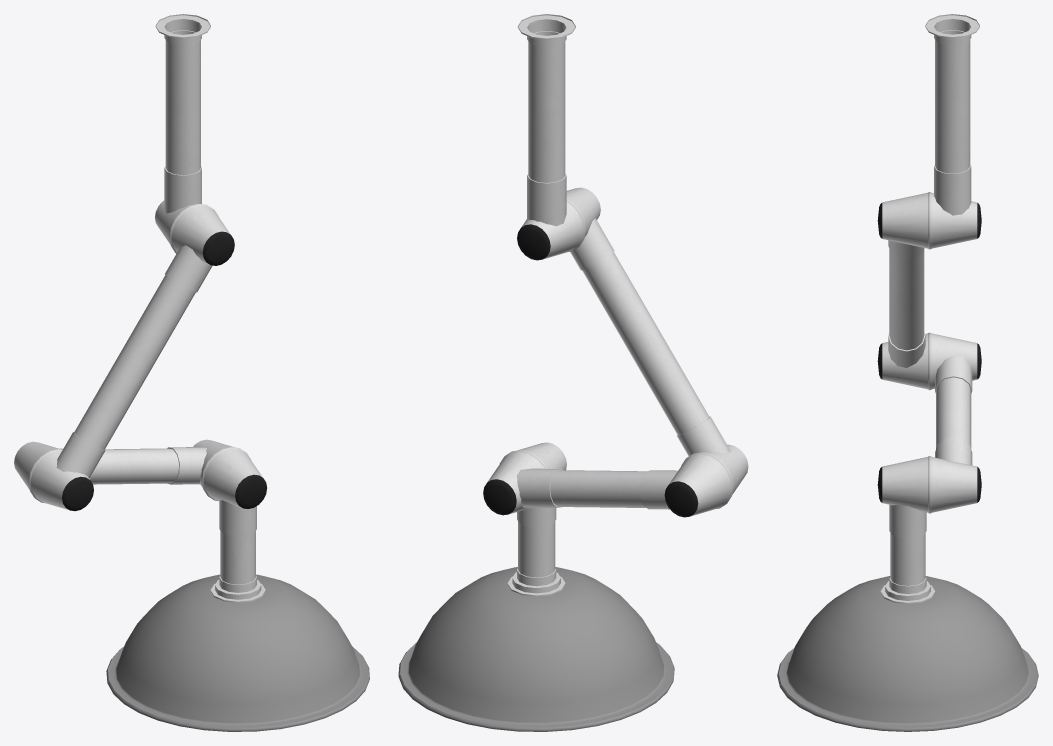
File: SM_吊顶式排气罩_011.fbx
3 views of the same model, side by side, from view 1: azimuth 30°, elevation 25°; view 2: azimuth 150°, elevation 25°; view 3: azimuth 270°, elevation 25° (orthographic). The views are drawn at different scales.
Visible parts, largest first — view 1: SM_吊顶式排气罩_011; view 2: SM_吊顶式排气罩_011; view 3: SM_吊顶式排气罩_011.
Boxes of the visible parts, <box> form: SM_吊顶式排气罩_011: <box>14,14,369,731</box>; SM_吊顶式排气罩_011: <box>398,14,748,731</box>; SM_吊顶式排气罩_011: <box>777,14,1038,731</box>.
Bounding box in the file's own units: 102 × 200 × 74.46.
